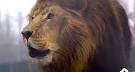lion: (18, 1, 130, 72)
